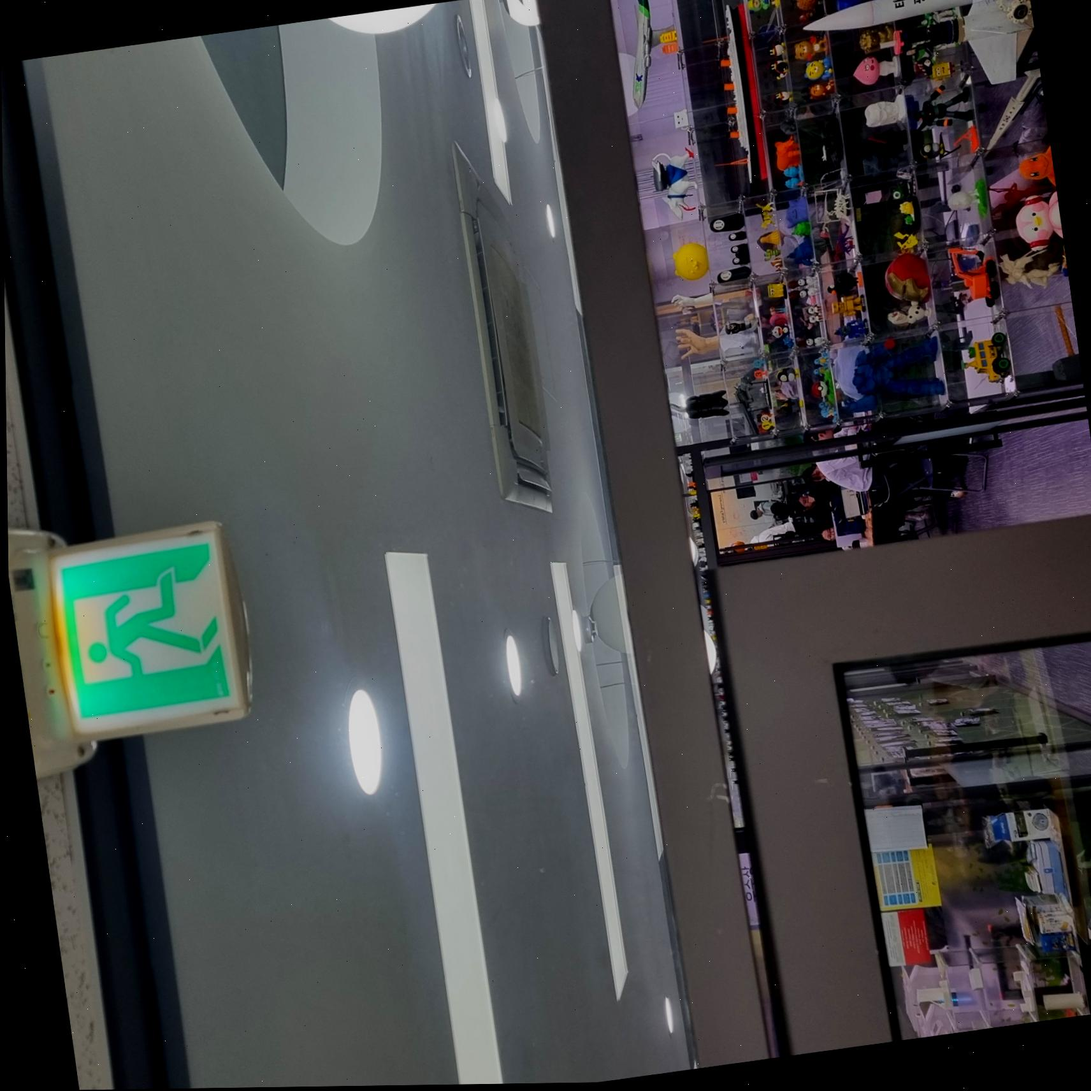emergency_exit: (45, 520, 253, 742)
